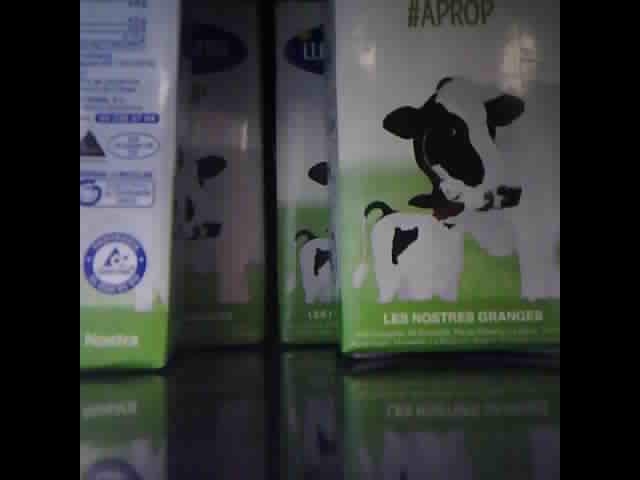leche: (339, 4, 560, 359), (81, 3, 183, 369), (177, 4, 261, 351), (277, 3, 339, 347)
